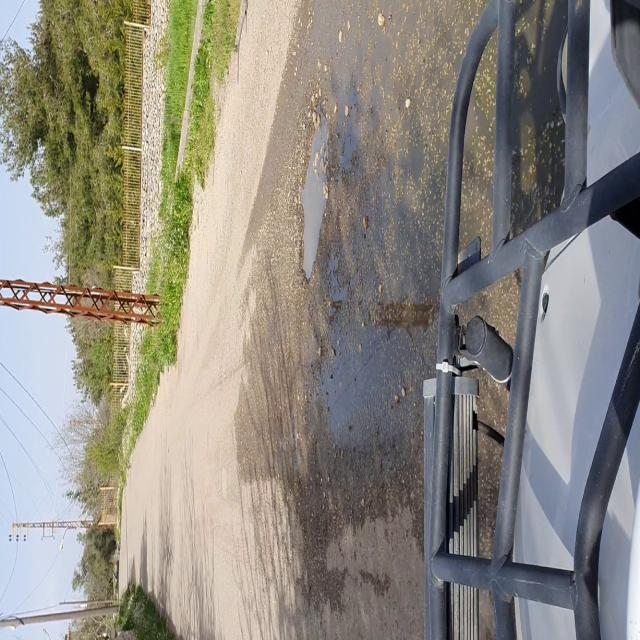Pothole: (292, 106, 335, 284)
